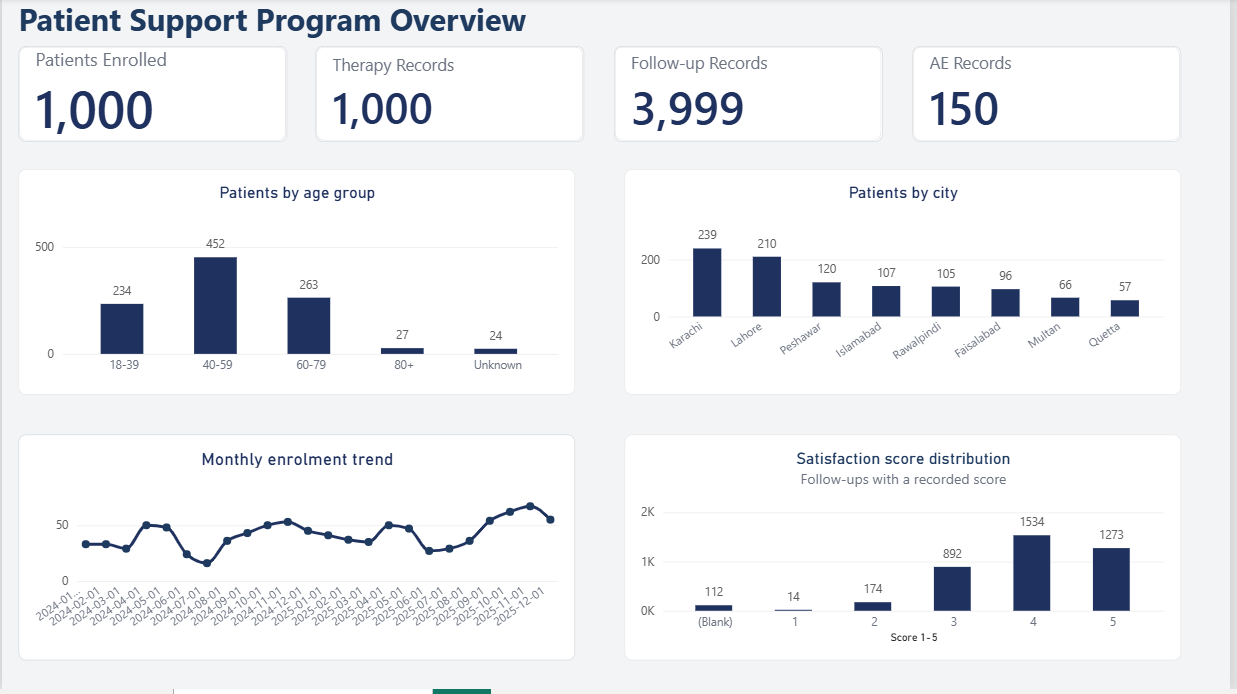

This screenshot's page, from the dashboard's own definition file:
{"tool":"powerbi","page":{"name":"PSP-Analysis Dashboard","canvas":[1280,720],"ordinal":0},"visuals":[{"type":"cardVisual","fields":{"Data":["Sum(psp_sql_project vw_kpi_core_counts.therapy_records)"]},"box":[327.2,50,280,100],"z":0},{"type":"cardVisual","fields":{"Data":["Sum(psp_sql_project vw_kpi_core_counts.followup_records)"]},"box":[637.8,50,280,100],"z":1000},{"type":"cardVisual","fields":{"Data":["Sum(psp_sql_project vw_kpi_core_counts.adverse_event_records)"]},"box":[948.3,50,280,100],"z":2000},{"type":"cardVisual","fields":{"Data":["Sum(psp_sql_project vw_kpi_core_counts.patients_enrolled)"]},"box":[16.7,50,280,100],"z":3000},{"type":"clusteredColumnChart","title":"Patients by age group","fields":{"Category":["psp_sql_project patients_clean.age_group"],"Y":["Count(psp_sql_project patients_clean.patient_id)"]},"box":[16.7,178.3,580,235],"z":4000},{"type":"clusteredColumnChart","title":"Patients by city","fields":{"Category":["psp_sql_project patients_clean.city"],"Y":["Count(psp_sql_project patients_clean.patient_id)"]},"box":[648.3,178.3,580,235],"z":5000},{"type":"lineChart","title":"Monthly enrolment trend ","fields":{"Category":["psp_sql_project patients_clean.enrolment_month"],"Y":["Count(psp_sql_project patients_clean.patient_id)"]},"box":[16.7,455,580,235],"z":6000},{"type":"clusteredColumnChart","title":"Satisfaction score distribution","fields":{"Category":["psp_sql_project followups_clean.satisfaction_score"],"Y":["Count(psp_sql_project followups_clean.followup_id)"]},"box":[648.3,455,580,235],"z":7000},{"type":"textbox","title":"Patient Support Program Overview ","box":[16.7,0,1158.3,68.3],"z":7001}]}

Visuals, with their boxes in screenshot pixels (x1, y1, x2, y2), scaled from the page's 1280x720 canvas onto the 1237x694 screenshot:
cardVisual - Sum(psp_sql_project vw_kpi_core_counts.therapy_records): l=316, t=48, r=587, b=145
cardVisual - Sum(psp_sql_project vw_kpi_core_counts.followup_records): l=616, t=48, r=887, b=145
cardVisual - Sum(psp_sql_project vw_kpi_core_counts.adverse_event_records): l=916, t=48, r=1187, b=145
cardVisual - Sum(psp_sql_project vw_kpi_core_counts.patients_enrolled): l=16, t=48, r=287, b=145
"Patients by age group" clusteredColumnChart: l=16, t=172, r=577, b=398
"Patients by city" clusteredColumnChart: l=627, t=172, r=1187, b=398
"Monthly enrolment trend " lineChart: l=16, t=439, r=577, b=665
"Satisfaction score distribution" clusteredColumnChart: l=627, t=439, r=1187, b=665
"Patient Support Program Overview " textbox: l=16, t=0, r=1136, b=66
